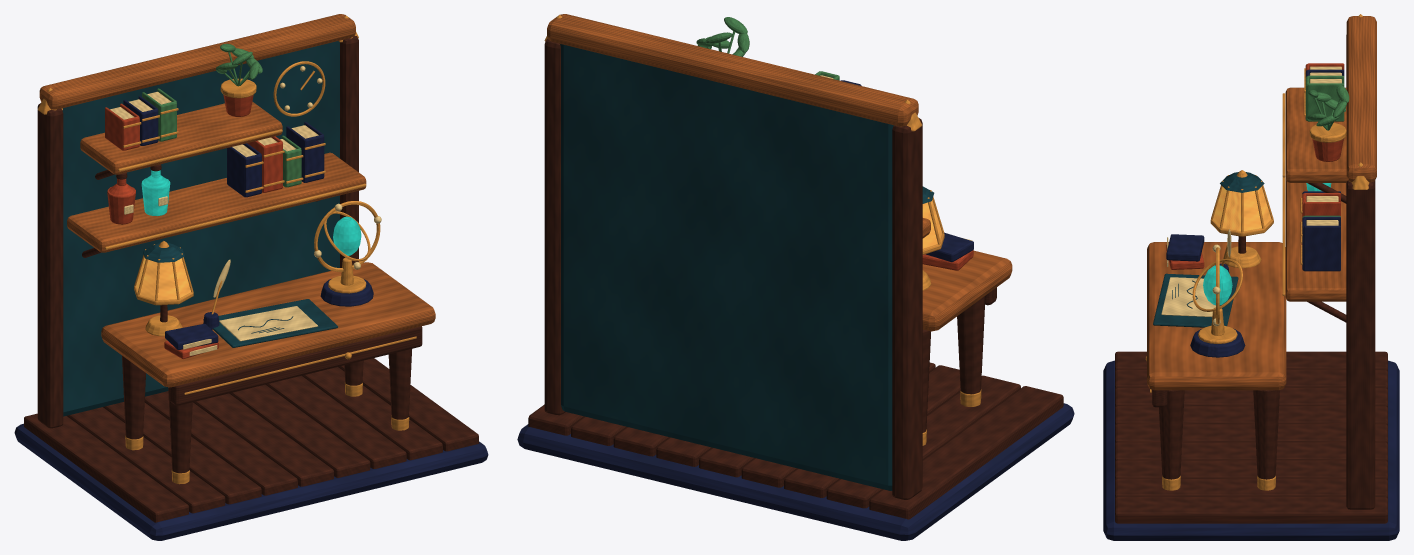
Rendered from fantasy-workshop.glb.
3 renders of one model, left to right at view 1: azimuth 30°, elevation 25°; view 2: azimuth 150°, elevation 25°; view 3: azimuth 270°, elevation 25°, orthographic. The views are drawn at different scales.
Parts seen in each view (by area): view 1: FW_Backdrop_panel, FW_Desk_top, FW_Floating_plinth, FW_Shelf, FW_Carved_upright, FW_Upper_cornice, FW_Shelf.001, FW_Floorboard_00, FW_Desk_front_apron, FW_Floorboard_05, FW_Floorboard_06, FW_Floorboard_04 (+30 smaller); view 2: FW_Backdrop_panel, FW_Floating_plinth, FW_Upper_cornice, FW_Carved_upright, FW_Floorboard_00, FW_Carved_upright.001, FW_Desk_top, FW_Floorboard_01, FW_Floorboard_02, FW_Tapered_desk_leg, FW_Floorboard_03, FW_Floorboard_06 (+6 smaller); view 3: FW_Desk_top, FW_Carved_upright.001, FW_Floating_plinth, FW_Floorboard_08, FW_Upper_cornice, FW_Floorboard_07, FW_Shelf, FW_Floorboard_06, FW_Floorboard_05, FW_Floorboard_04, FW_Floorboard_03, FW_Floorboard_02 (+22 smaller).
Boxes of the visible parts, bbox=[...] form: FW_Backdrop_panel: bbox=[62, 41, 339, 416]; FW_Desk_top: bbox=[101, 262, 435, 387]; FW_Floating_plinth: bbox=[14, 423, 488, 540]; FW_Shelf: bbox=[67, 152, 366, 252]; FW_Carved_upright: bbox=[37, 103, 63, 428]; FW_Upper_cornice: bbox=[39, 14, 355, 109]; FW_Shelf.001: bbox=[80, 101, 282, 174]; FW_Floorboard_00: bbox=[24, 413, 188, 522]; FW_Desk_front_apron: bbox=[170, 326, 422, 405]; FW_Floorboard_05: bbox=[229, 384, 370, 477]; FW_Floorboard_06: bbox=[265, 375, 406, 468]; FW_Floorboard_04: bbox=[193, 393, 333, 486]; FW_Backdrop_panel: bbox=[560, 44, 894, 490]; FW_Floating_plinth: bbox=[517, 403, 1074, 540]; FW_Upper_cornice: bbox=[547, 14, 918, 126]; FW_Carved_upright: bbox=[892, 118, 922, 499]; FW_Floorboard_00: bbox=[869, 386, 1063, 519]; FW_Carved_upright.001: bbox=[544, 38, 565, 415]; FW_Desk_top: bbox=[922, 250, 1012, 331]; FW_Floorboard_01: bbox=[826, 375, 1020, 508]; FW_Floorboard_02: bbox=[784, 365, 960, 497]; FW_Tapered_desk_leg: bbox=[957, 296, 984, 394]; FW_Floorboard_03: bbox=[741, 362, 935, 487]; FW_Floorboard_06: bbox=[613, 427, 669, 456]; FW_Desk_top: bbox=[1147, 242, 1286, 390]; FW_Carved_upright.001: bbox=[1346, 180, 1375, 509]; FW_Floating_plinth: bbox=[1103, 360, 1399, 540]; FW_Floorboard_08: bbox=[1115, 497, 1387, 523]; FW_Upper_cornice: bbox=[1346, 16, 1376, 182]; FW_Floorboard_07: bbox=[1115, 479, 1387, 498]; FW_Shelf: bbox=[1285, 179, 1346, 301]; FW_Floorboard_06: bbox=[1115, 460, 1387, 480]; FW_Floorboard_05: bbox=[1115, 442, 1387, 462]; FW_Floorboard_04: bbox=[1115, 424, 1387, 444]; FW_Floorboard_03: bbox=[1115, 406, 1387, 425]; FW_Floorboard_02: bbox=[1115, 388, 1387, 407].
Bounding box in the file's own units: 3.45 × 3.63 × 2.55.
Materials: 11 (11 with a texture image).
